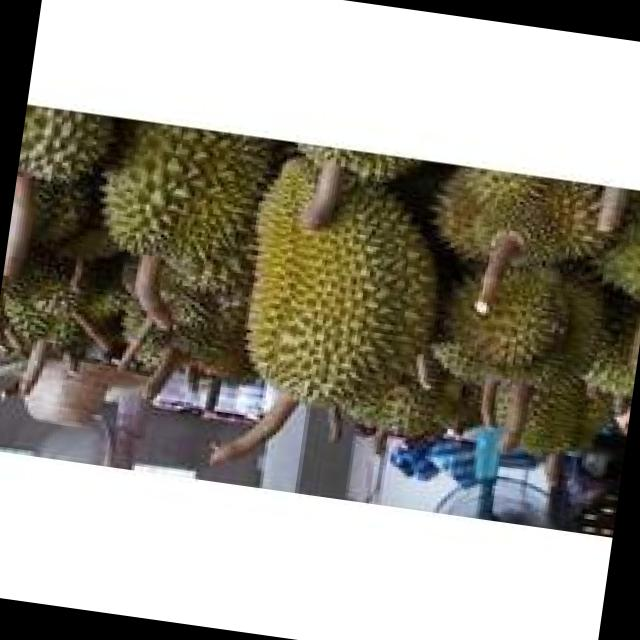fruit: (213, 149, 473, 452), (415, 225, 640, 422)
